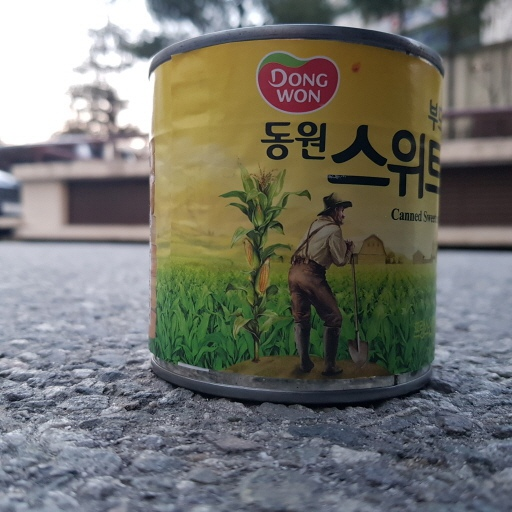Metal_1: (143, 23, 446, 404)
